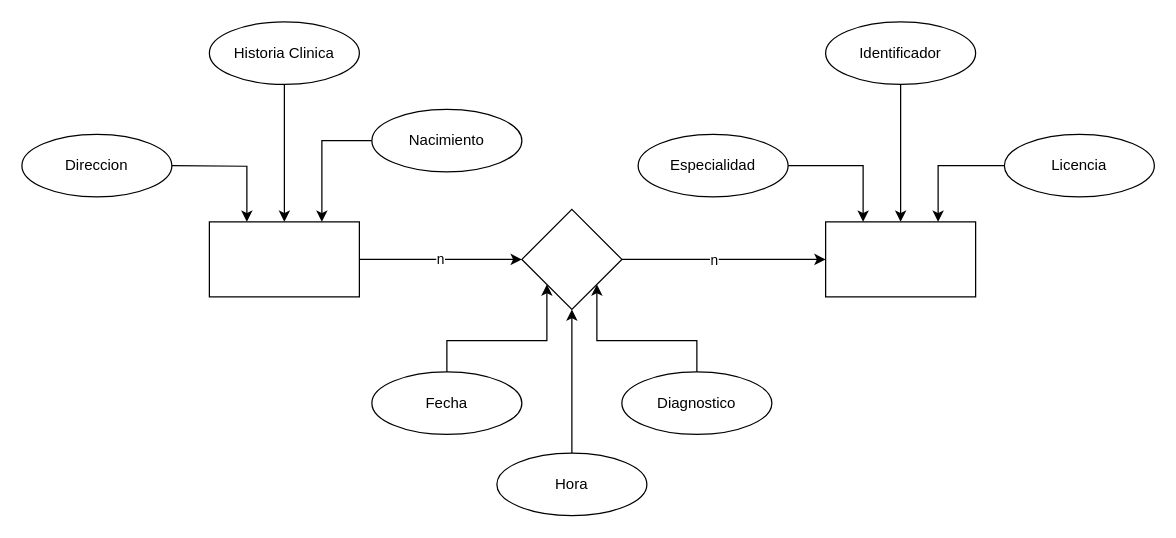
Some shapes in this 1176 by 538 pixel diagram are drawn without their labels. The shapes that lost their labels are listed below. From the top down, each one's centre as x and y in pixels, then its label:
At (x=283, y=259): "Paciente".
At (x=571, y=258): "Citra".
At (x=900, y=259): "Doctor".
